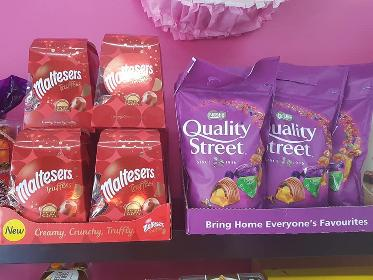maltesers: (12, 131, 88, 223), (92, 127, 167, 220), (96, 36, 170, 127), (26, 37, 93, 129)
